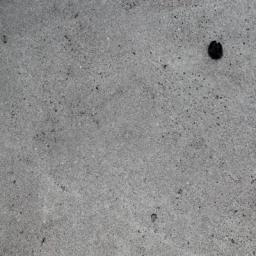FOD: (206, 38, 226, 63)
